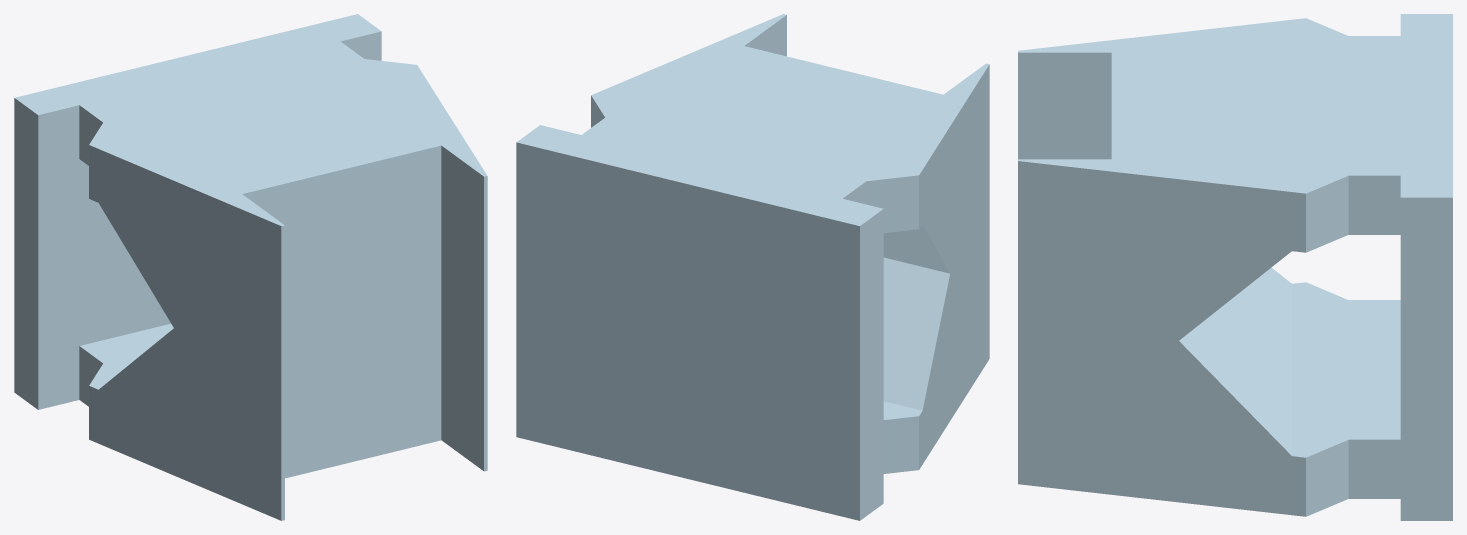
The model's file is NeckBottomSupport.gltf.
3 views of the same model, side by side, from view 1: azimuth 30°, elevation 25°; view 2: azimuth 150°, elevation 25°; view 3: azimuth 270°, elevation 25° (orthographic). The views are drawn at different scales.
Visible parts, largest first — view 1: BottomSuport; view 2: BottomSuport; view 3: BottomSuport.
Boxes of the visible parts, x1,y1,x2,y2 form: BottomSuport: (14,14,487,520); BottomSuport: (516,14,989,520); BottomSuport: (1018,14,1452,520).
Bounding box in the file's own units: 0.1 × 0.082 × 0.1.
